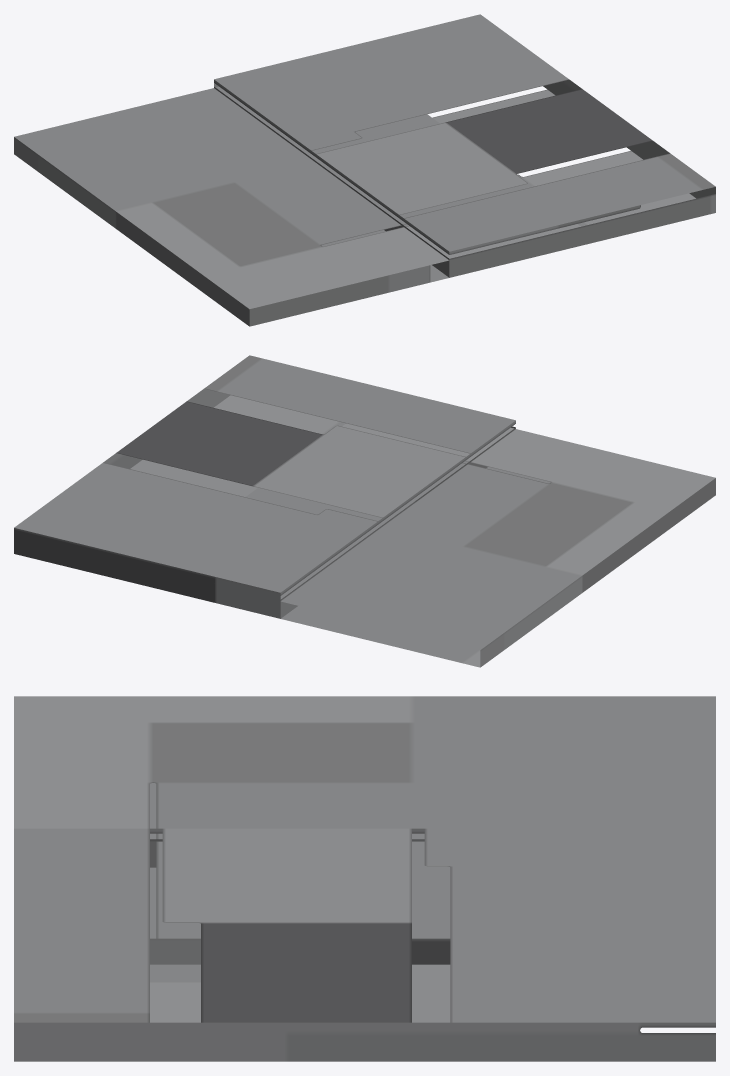
3 views of the same model, one above another, from view 1: azimuth 30°, elevation 25°; view 2: azimuth 150°, elevation 25°; view 3: azimuth 270°, elevation 25° (orthographic). The views are drawn at different scales.
Bounding box in the file's own units: 2.8 × 0.15 × 2.45.
